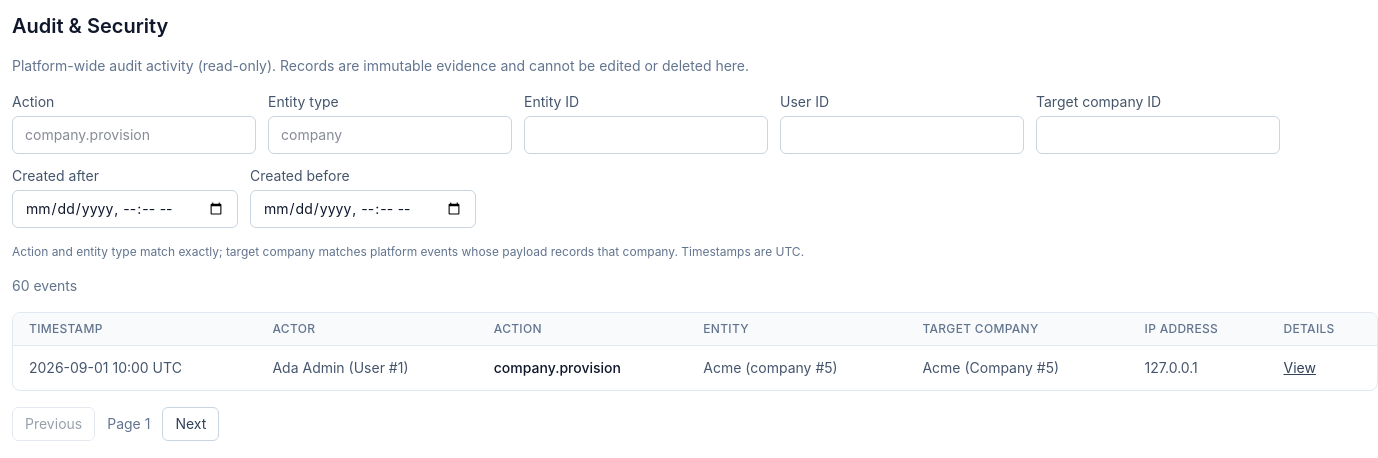
AdminAuditPage › paginates using the backend envelope
Expected: the text "company.provision" is shown, [478, 346, 687, 390]
Click the button "Next" at (191, 424), box [162, 407, 219, 441]
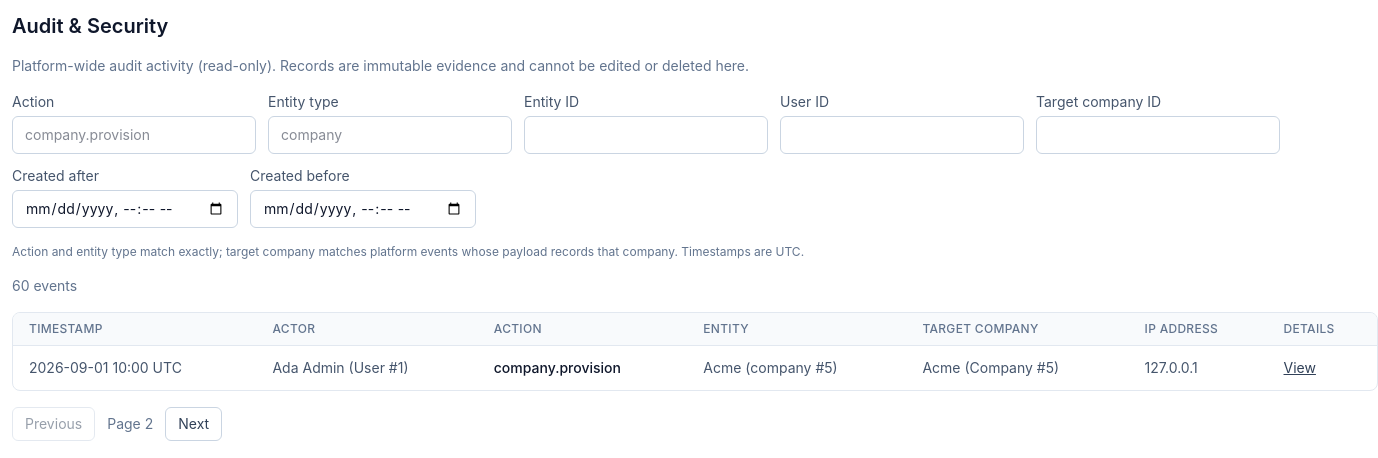
Expected: the text with test id "admin-audit-page" reads "Page 2", [107, 414, 153, 434]
